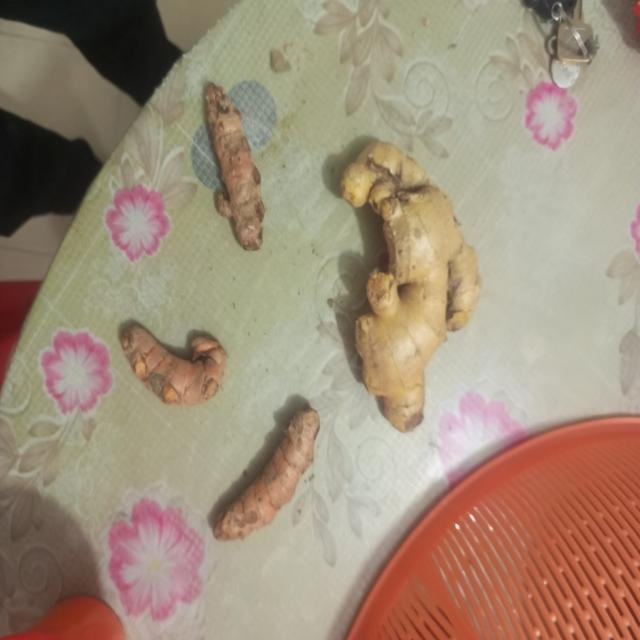ginger: (348, 141, 476, 431), (218, 412, 316, 535), (206, 82, 271, 247), (125, 311, 223, 402)
